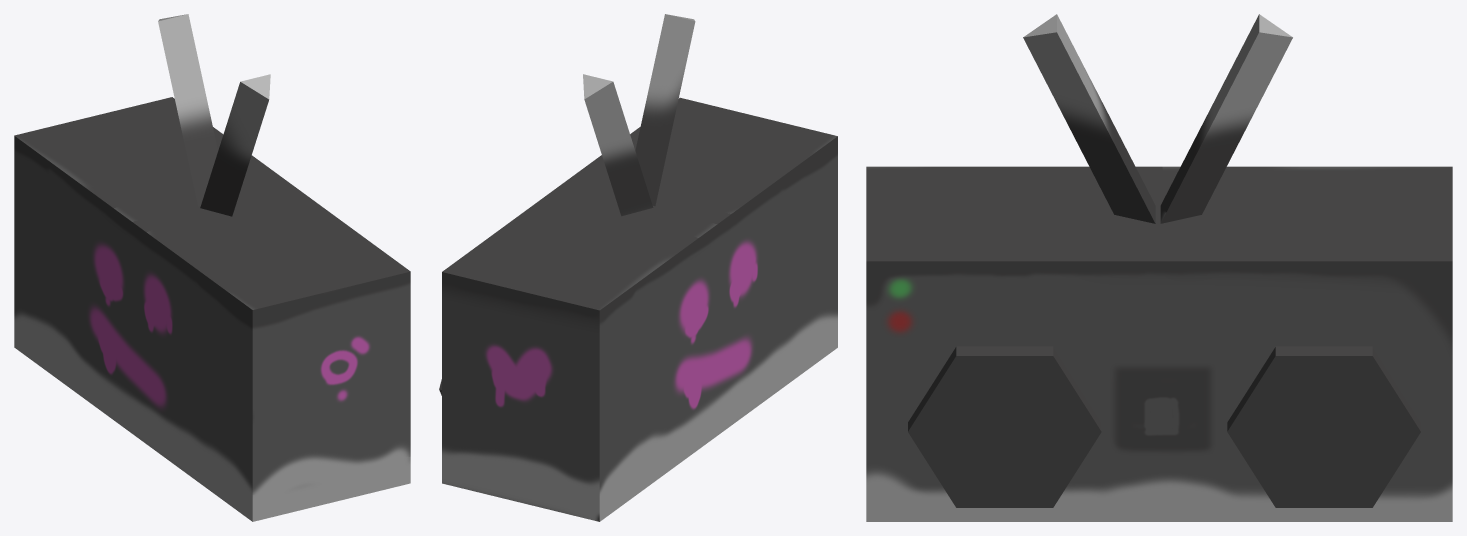
Rendered from Radio.fbx.
3 views of the same model, side by side, from view 1: azimuth 30°, elevation 25°; view 2: azimuth 150°, elevation 25°; view 3: azimuth 270°, elevation 25° (orthographic). The views are drawn at different scales.
Visible parts, largest first — view 1: Cylinder.003; view 2: Cylinder.003; view 3: Cylinder.003.
Part boxes in pixels (x1,y1,x2,y2): Cylinder.003: (14, 14, 410, 521); Cylinder.003: (439, 14, 837, 521); Cylinder.003: (866, 14, 1452, 521).
Bounding box in the file's own units: 84.05 × 170 × 200.
